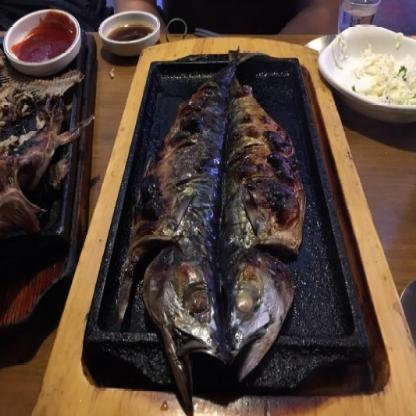Peixe: (116, 30, 300, 407)
